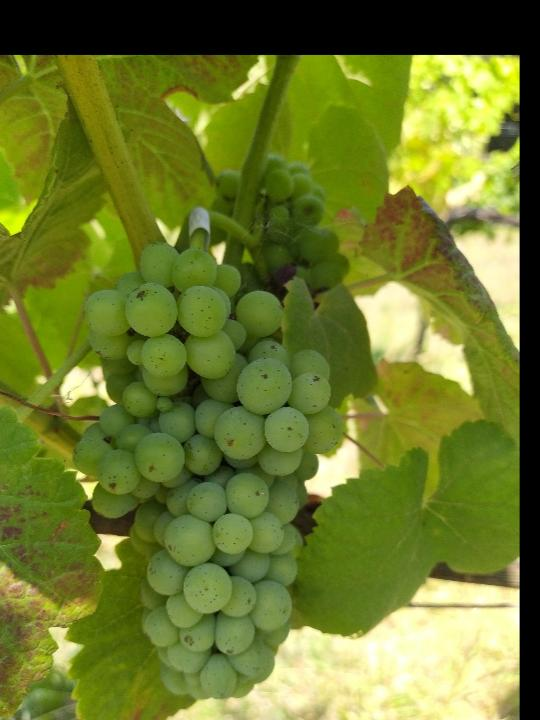grape: (68, 241, 330, 702)
